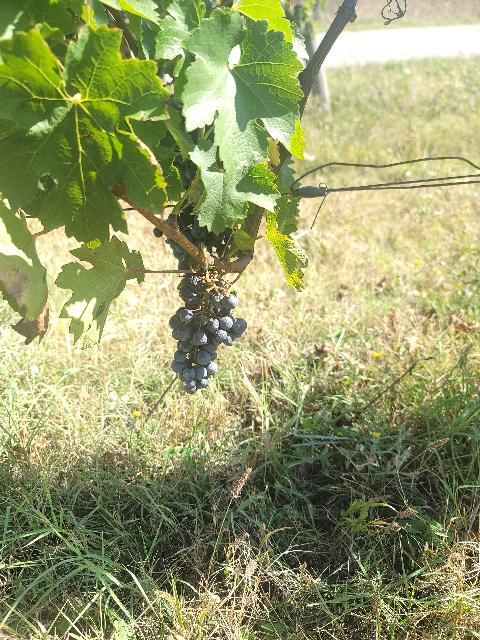grapes: (170, 308, 246, 394)
